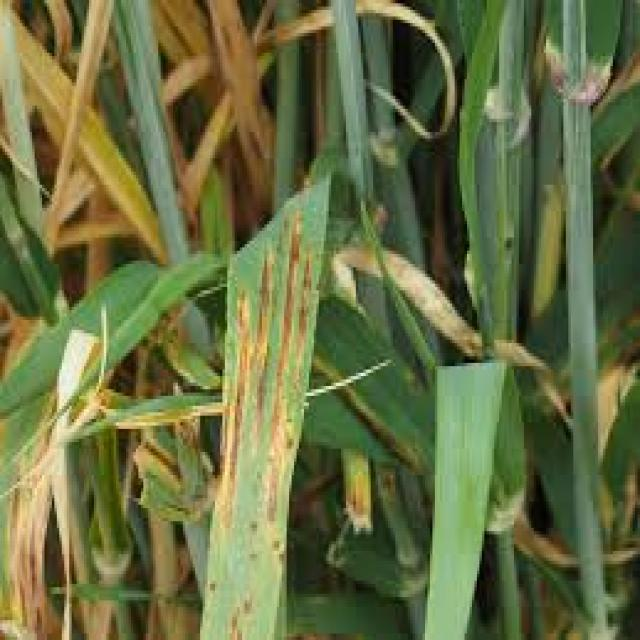leaf_blight: (200, 178, 334, 637)
